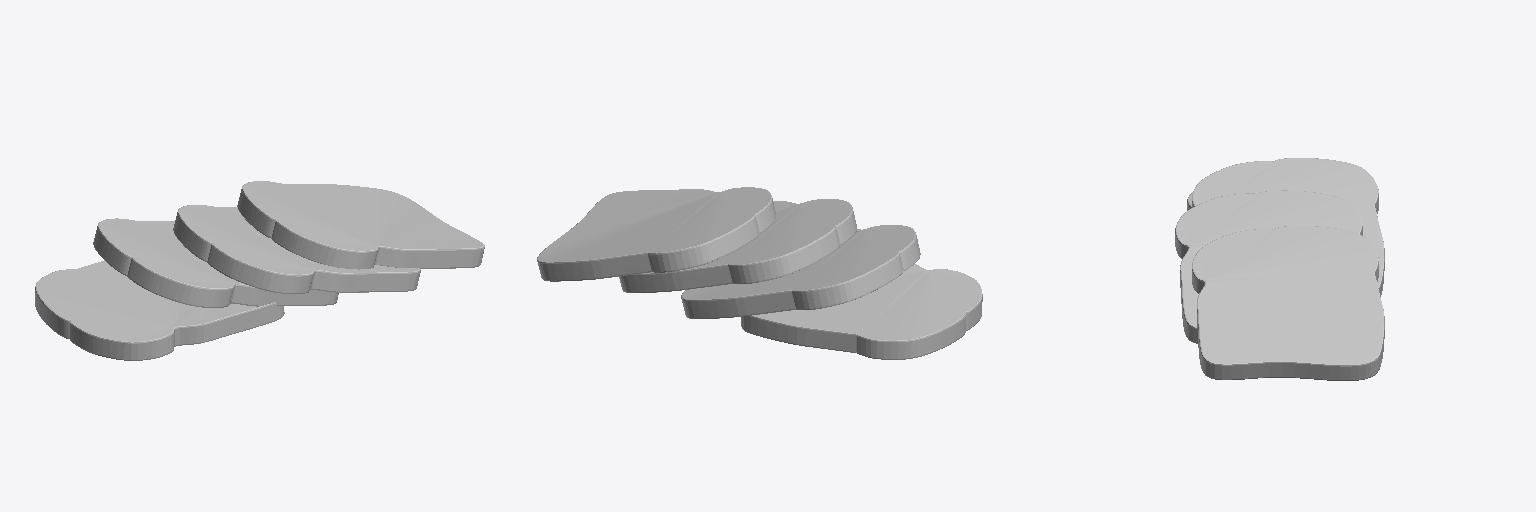
File: BREAD.obj
3 renders of one model, left to right at view 1: azimuth 30°, elevation 25°; view 2: azimuth 150°, elevation 25°; view 3: azimuth 270°, elevation 25°, orthographic.
Visible parts, largest first — view 1: Line103, Line101, Line100, Line099; view 2: Line103, Line101, Line099, Line100; view 3: Line103, Line100, Line099.
Boxes of the visible parts, x1,y1,x2,y2 form: Line103: [237, 181, 484, 269]; Line101: [35, 260, 284, 360]; Line100: [173, 205, 420, 293]; Line099: [93, 218, 338, 307]; Line103: [537, 187, 775, 281]; Line101: [741, 264, 982, 359]; Line099: [681, 225, 920, 318]; Line100: [619, 199, 856, 292]; Line103: [1192, 226, 1384, 380]; Line100: [1175, 190, 1362, 343]; Line099: [1192, 158, 1384, 296].
Size of the model in its own units: 35.61 by 6.39 by 16.46.